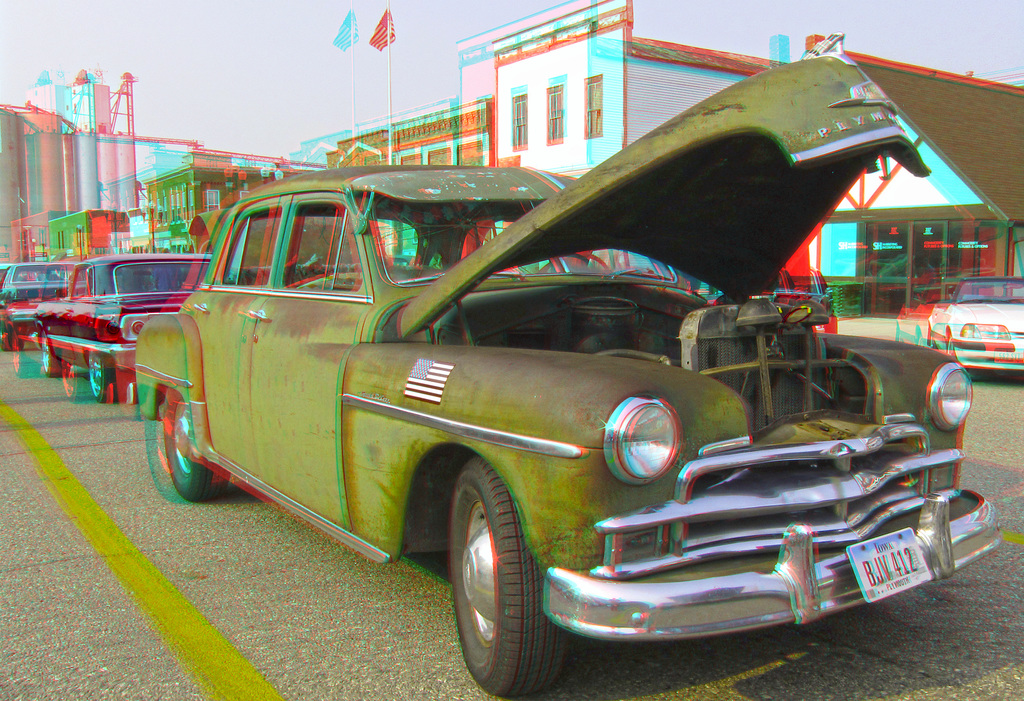Car: (133, 46, 1013, 697), (34, 252, 215, 407), (926, 273, 1023, 368), (0, 262, 80, 341)
